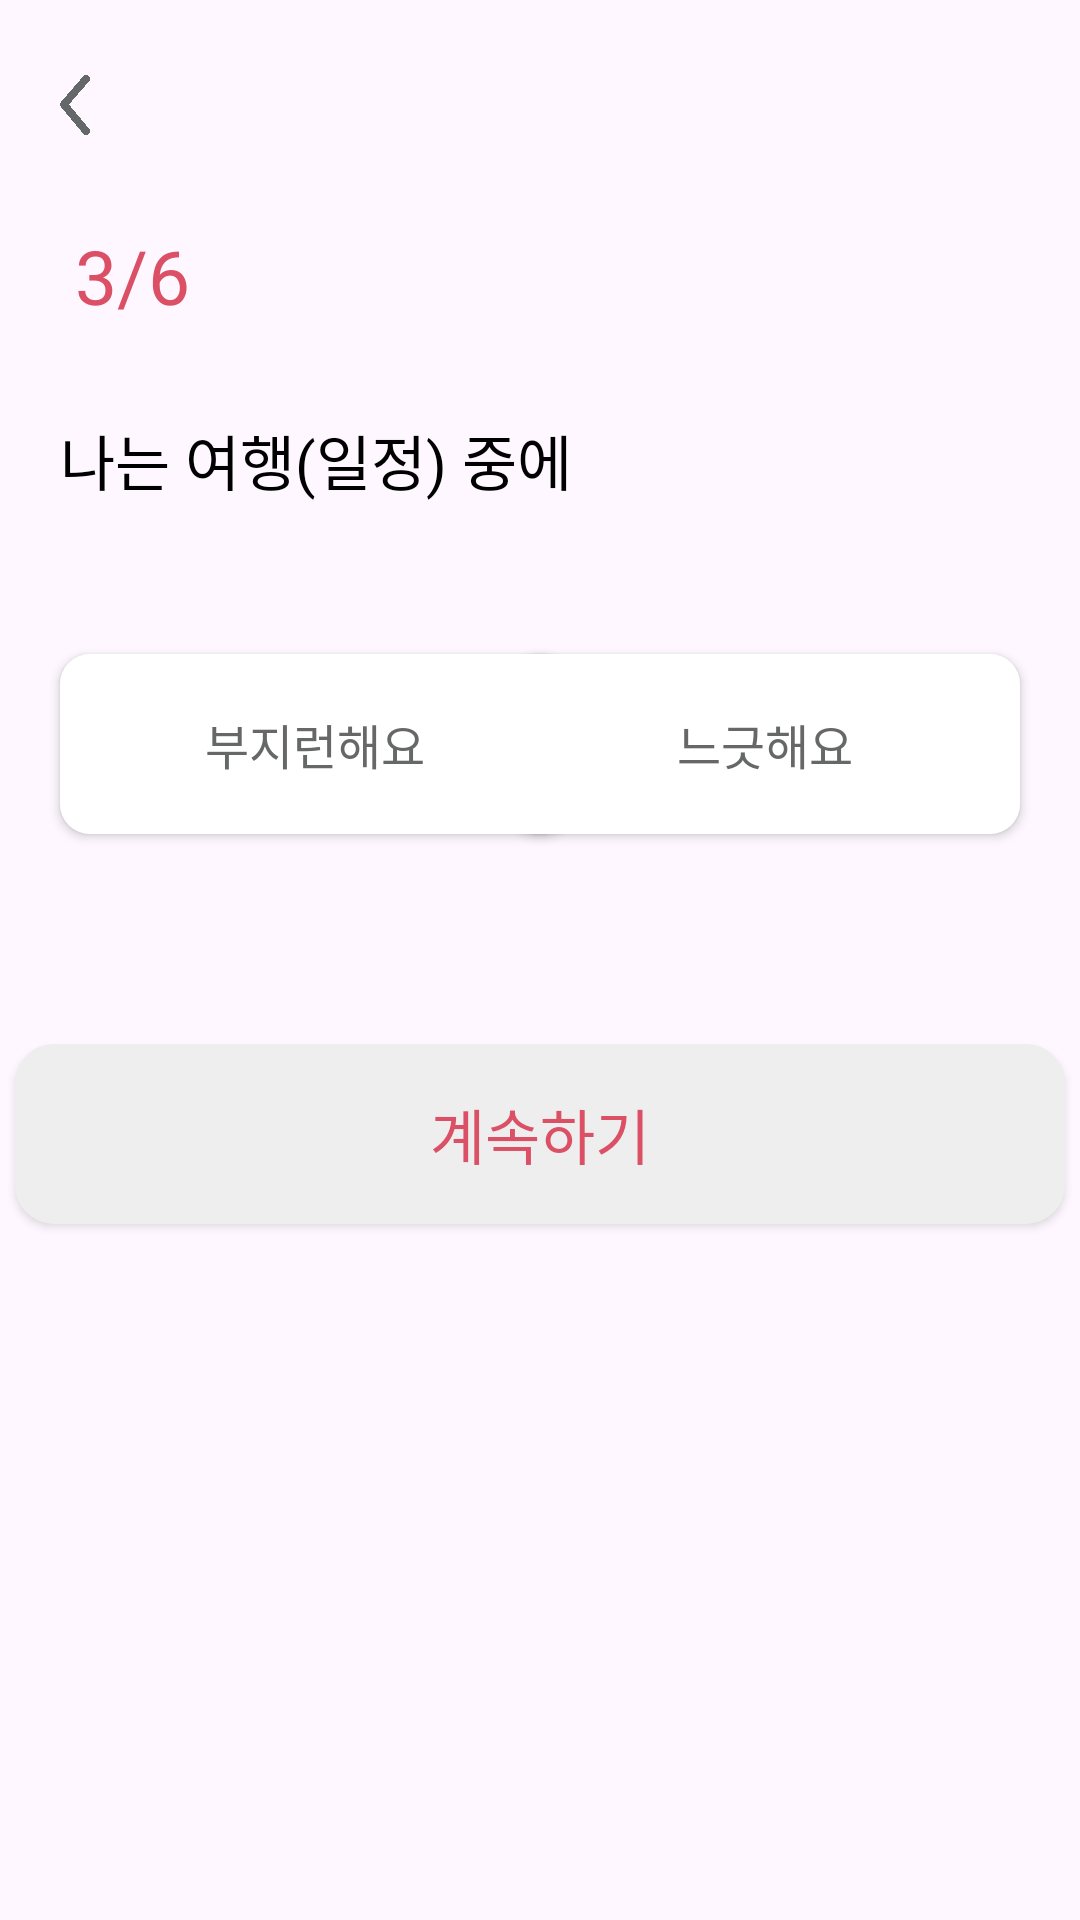

Icons on this 1080 x 1920 Android screen, each with the point to tap as (x,y):
wlsback: (75,105)
